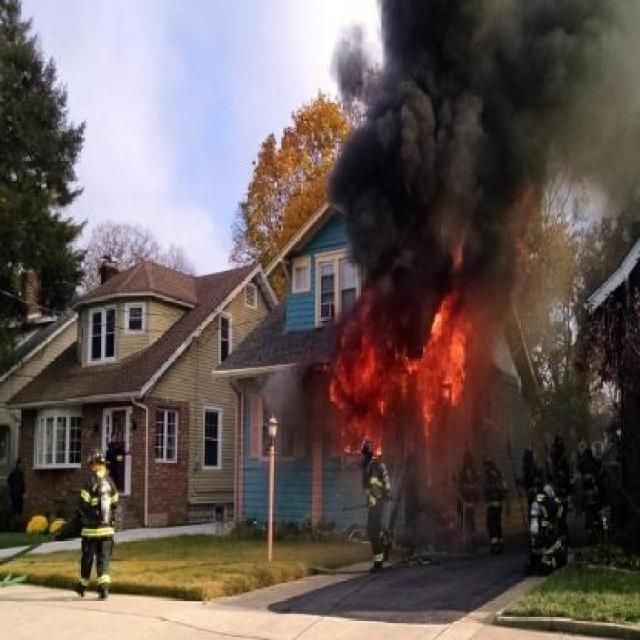Fire: (294, 263, 520, 515)
Smoke: (340, 13, 631, 242)
